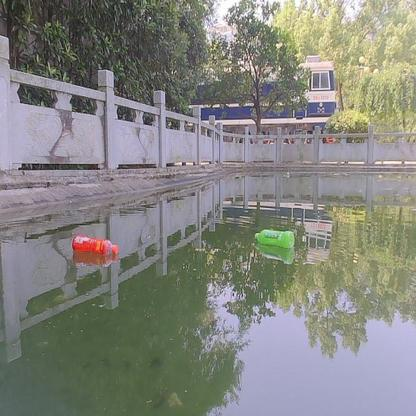plastic bottle: (71, 235, 120, 256), (255, 229, 295, 248)
